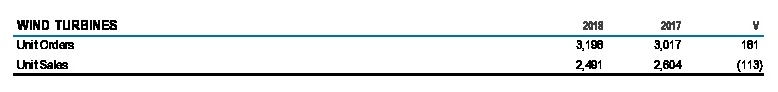table: (0, 0, 778, 92)
